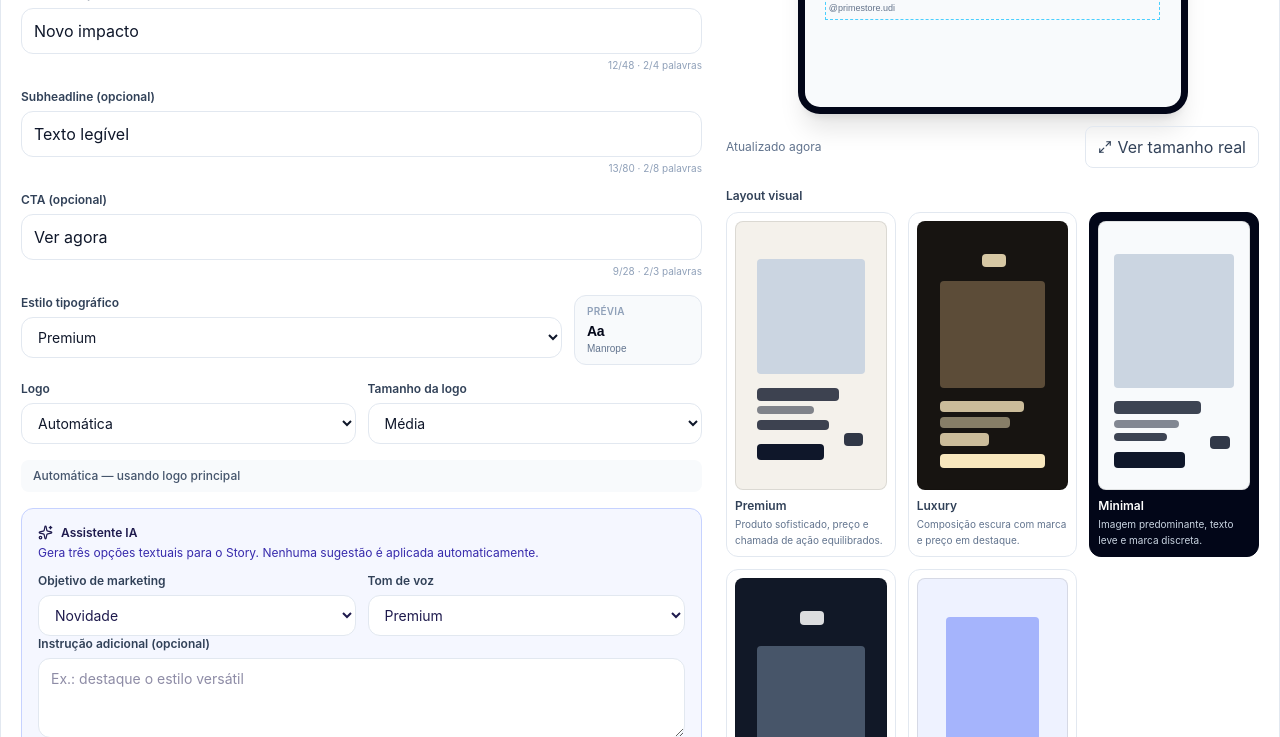
Test: StoryComposer › keeps premium consistent in the preview and full-size modal
The image size is (1280, 737).
(page scrolled)
Select "Premium" in the dropdown labelled "Estilo tipográfico". click: (292, 337)
box: [21, 317, 562, 358]
Click the button "Ver tamanho real". click: click(1172, 147)
box: [1084, 126, 1259, 168]
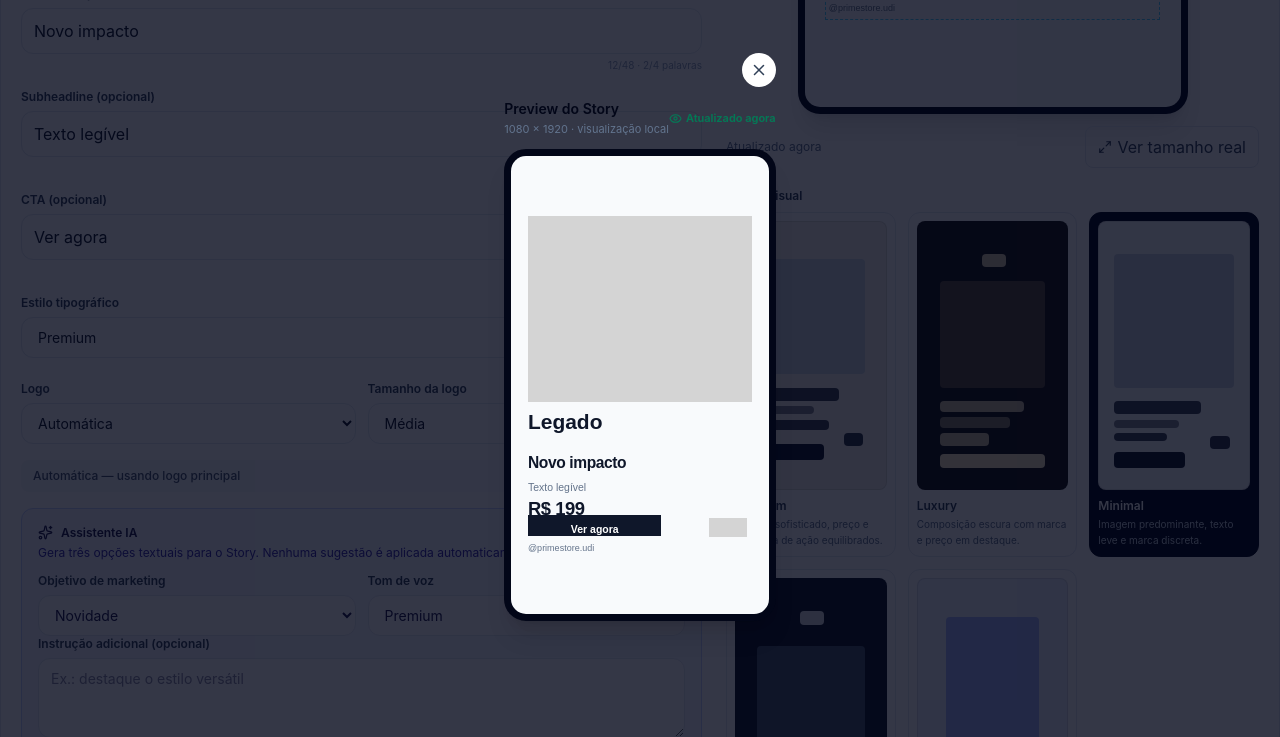
Expected: the text "Novo impacto" is shown, [528, 454, 626, 471]
